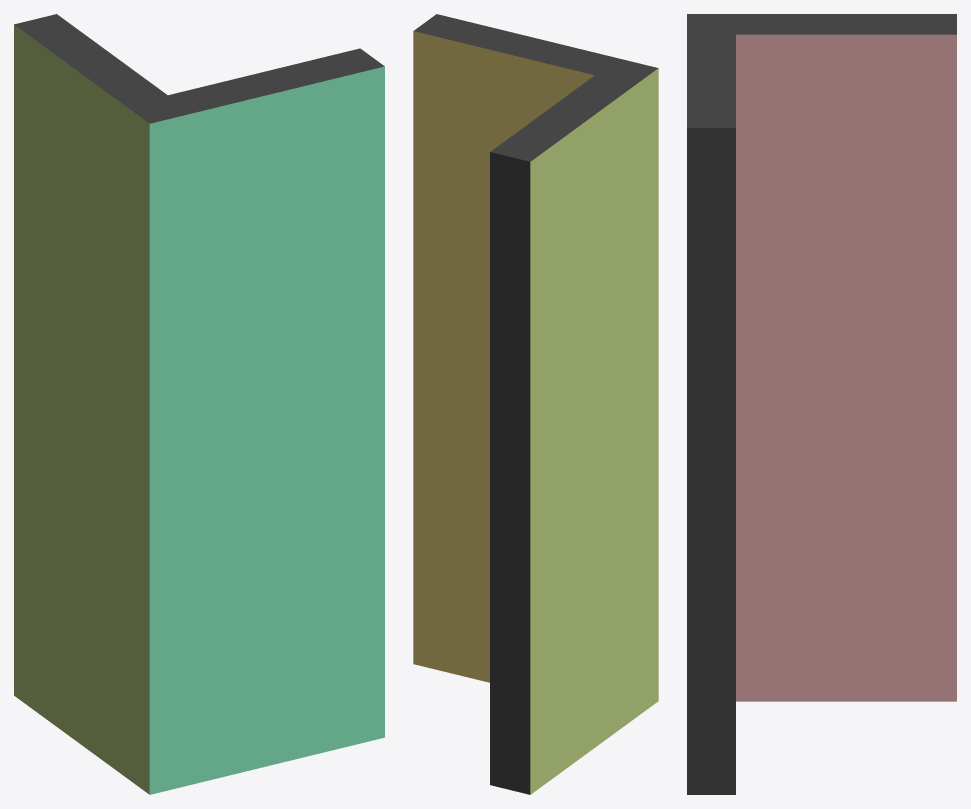
The model's file is CornerWall.fbx.
The picture shows the model from 3 angles, left to right: view 1: azimuth 30°, elevation 25°; view 2: azimuth 150°, elevation 25°; view 3: azimuth 270°, elevation 25°; orthographic projection. The views are drawn at different scales.
Parts seen in each view (by area): view 1: CornerWall; view 2: CornerWall; view 3: CornerWall.
Boxes of the visible parts, left/top/right/bottom form: CornerWall: left=14, top=14, right=384, bottom=794; CornerWall: left=413, top=14, right=658, bottom=794; CornerWall: left=687, top=14, right=956, bottom=794.
Size of the model in its own units: 110 by 300 by 110.
